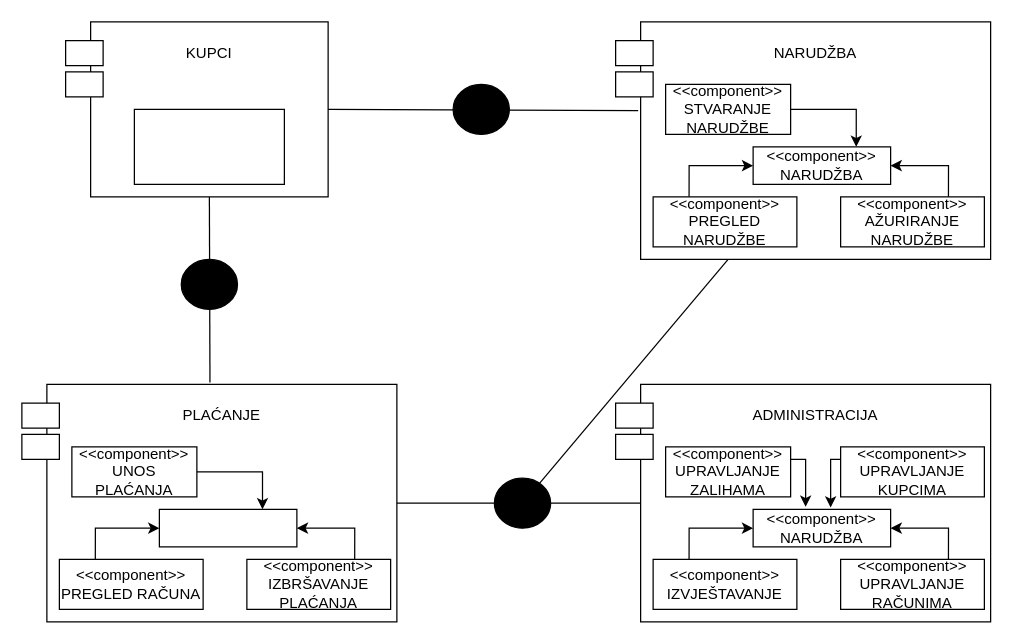
The diagram is 1013 pixels wide and 644 high, and some of its shapes have lost their labels. Here are the shapes that lost their labels. From the top down, the box of each, then its label:
(133, 108, 284, 184): <<component>> KUPAC
(158, 508, 297, 547): <<component>> PLAĆANJE
